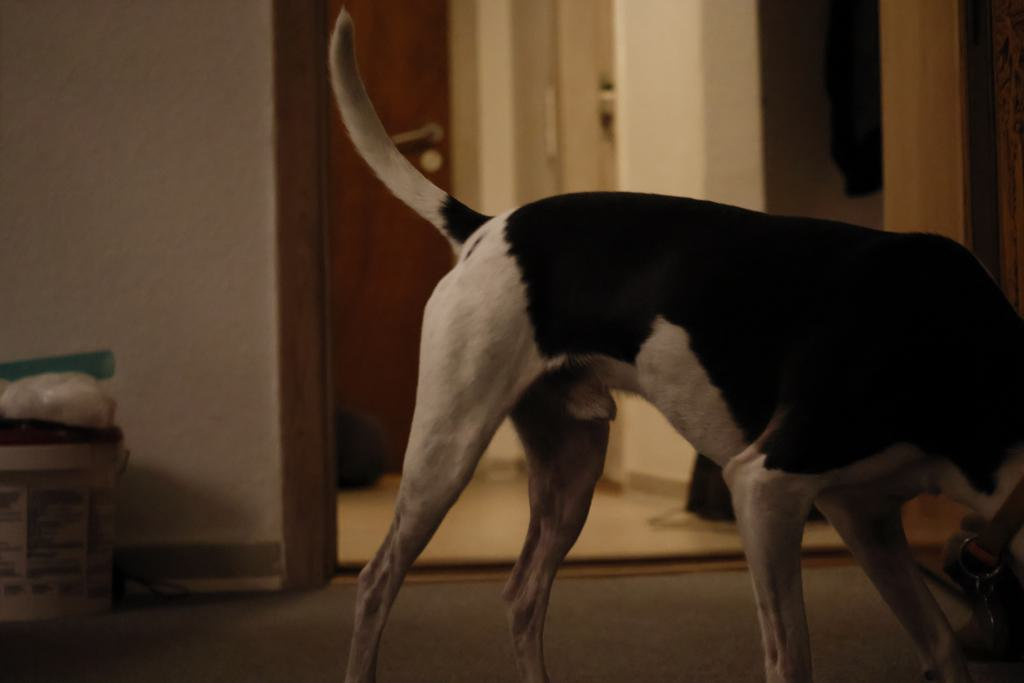Dog: (325, 0, 1024, 683)
